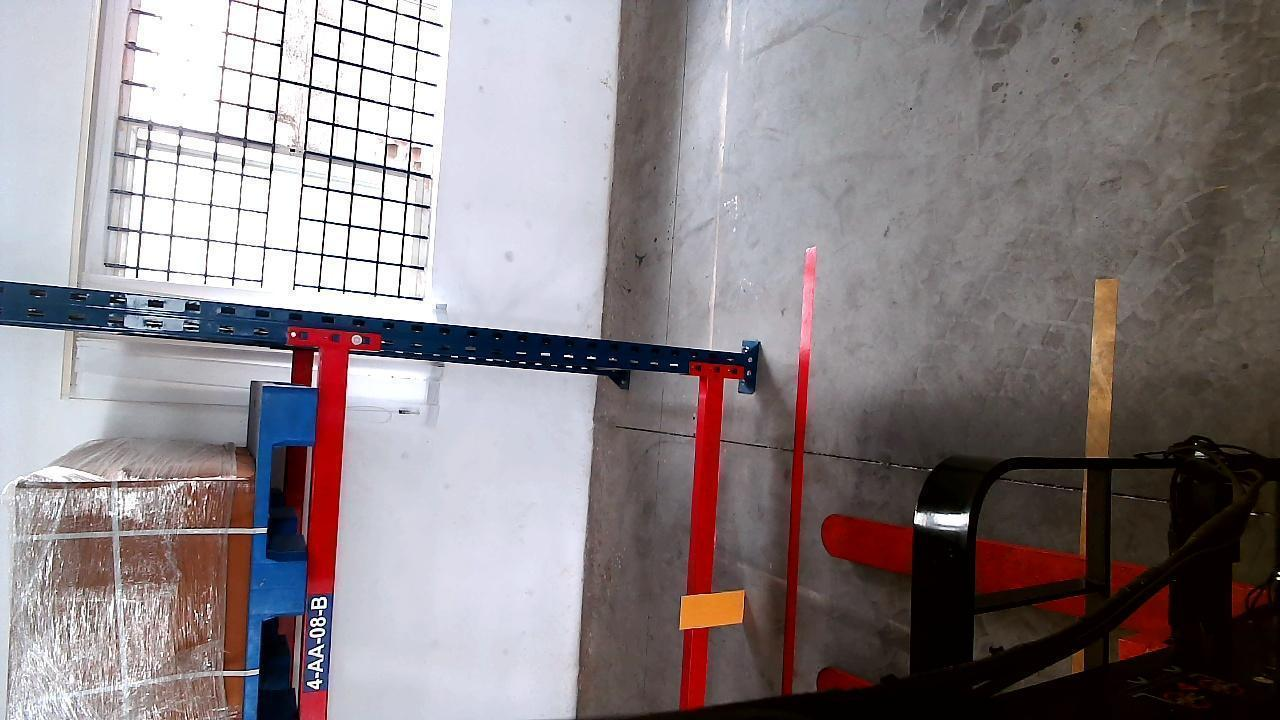red_line: (774, 244, 819, 695)
yellow_line: (1087, 272, 1115, 461)
